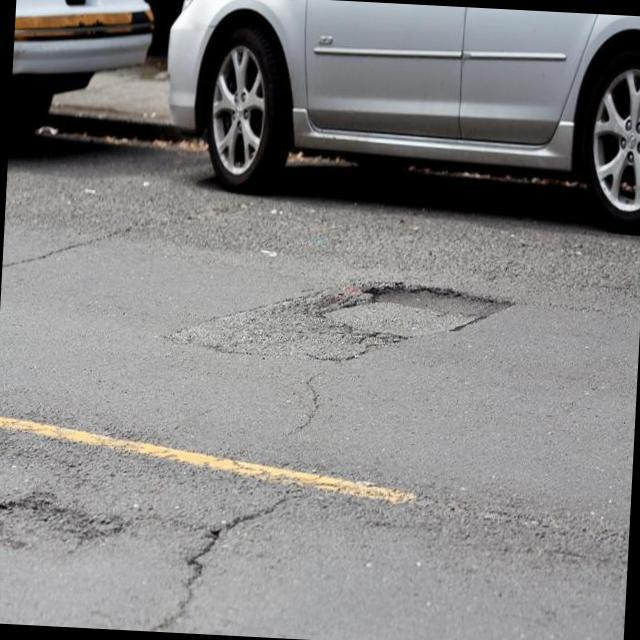Pothole: (323, 282, 514, 335), (0, 490, 113, 548)
